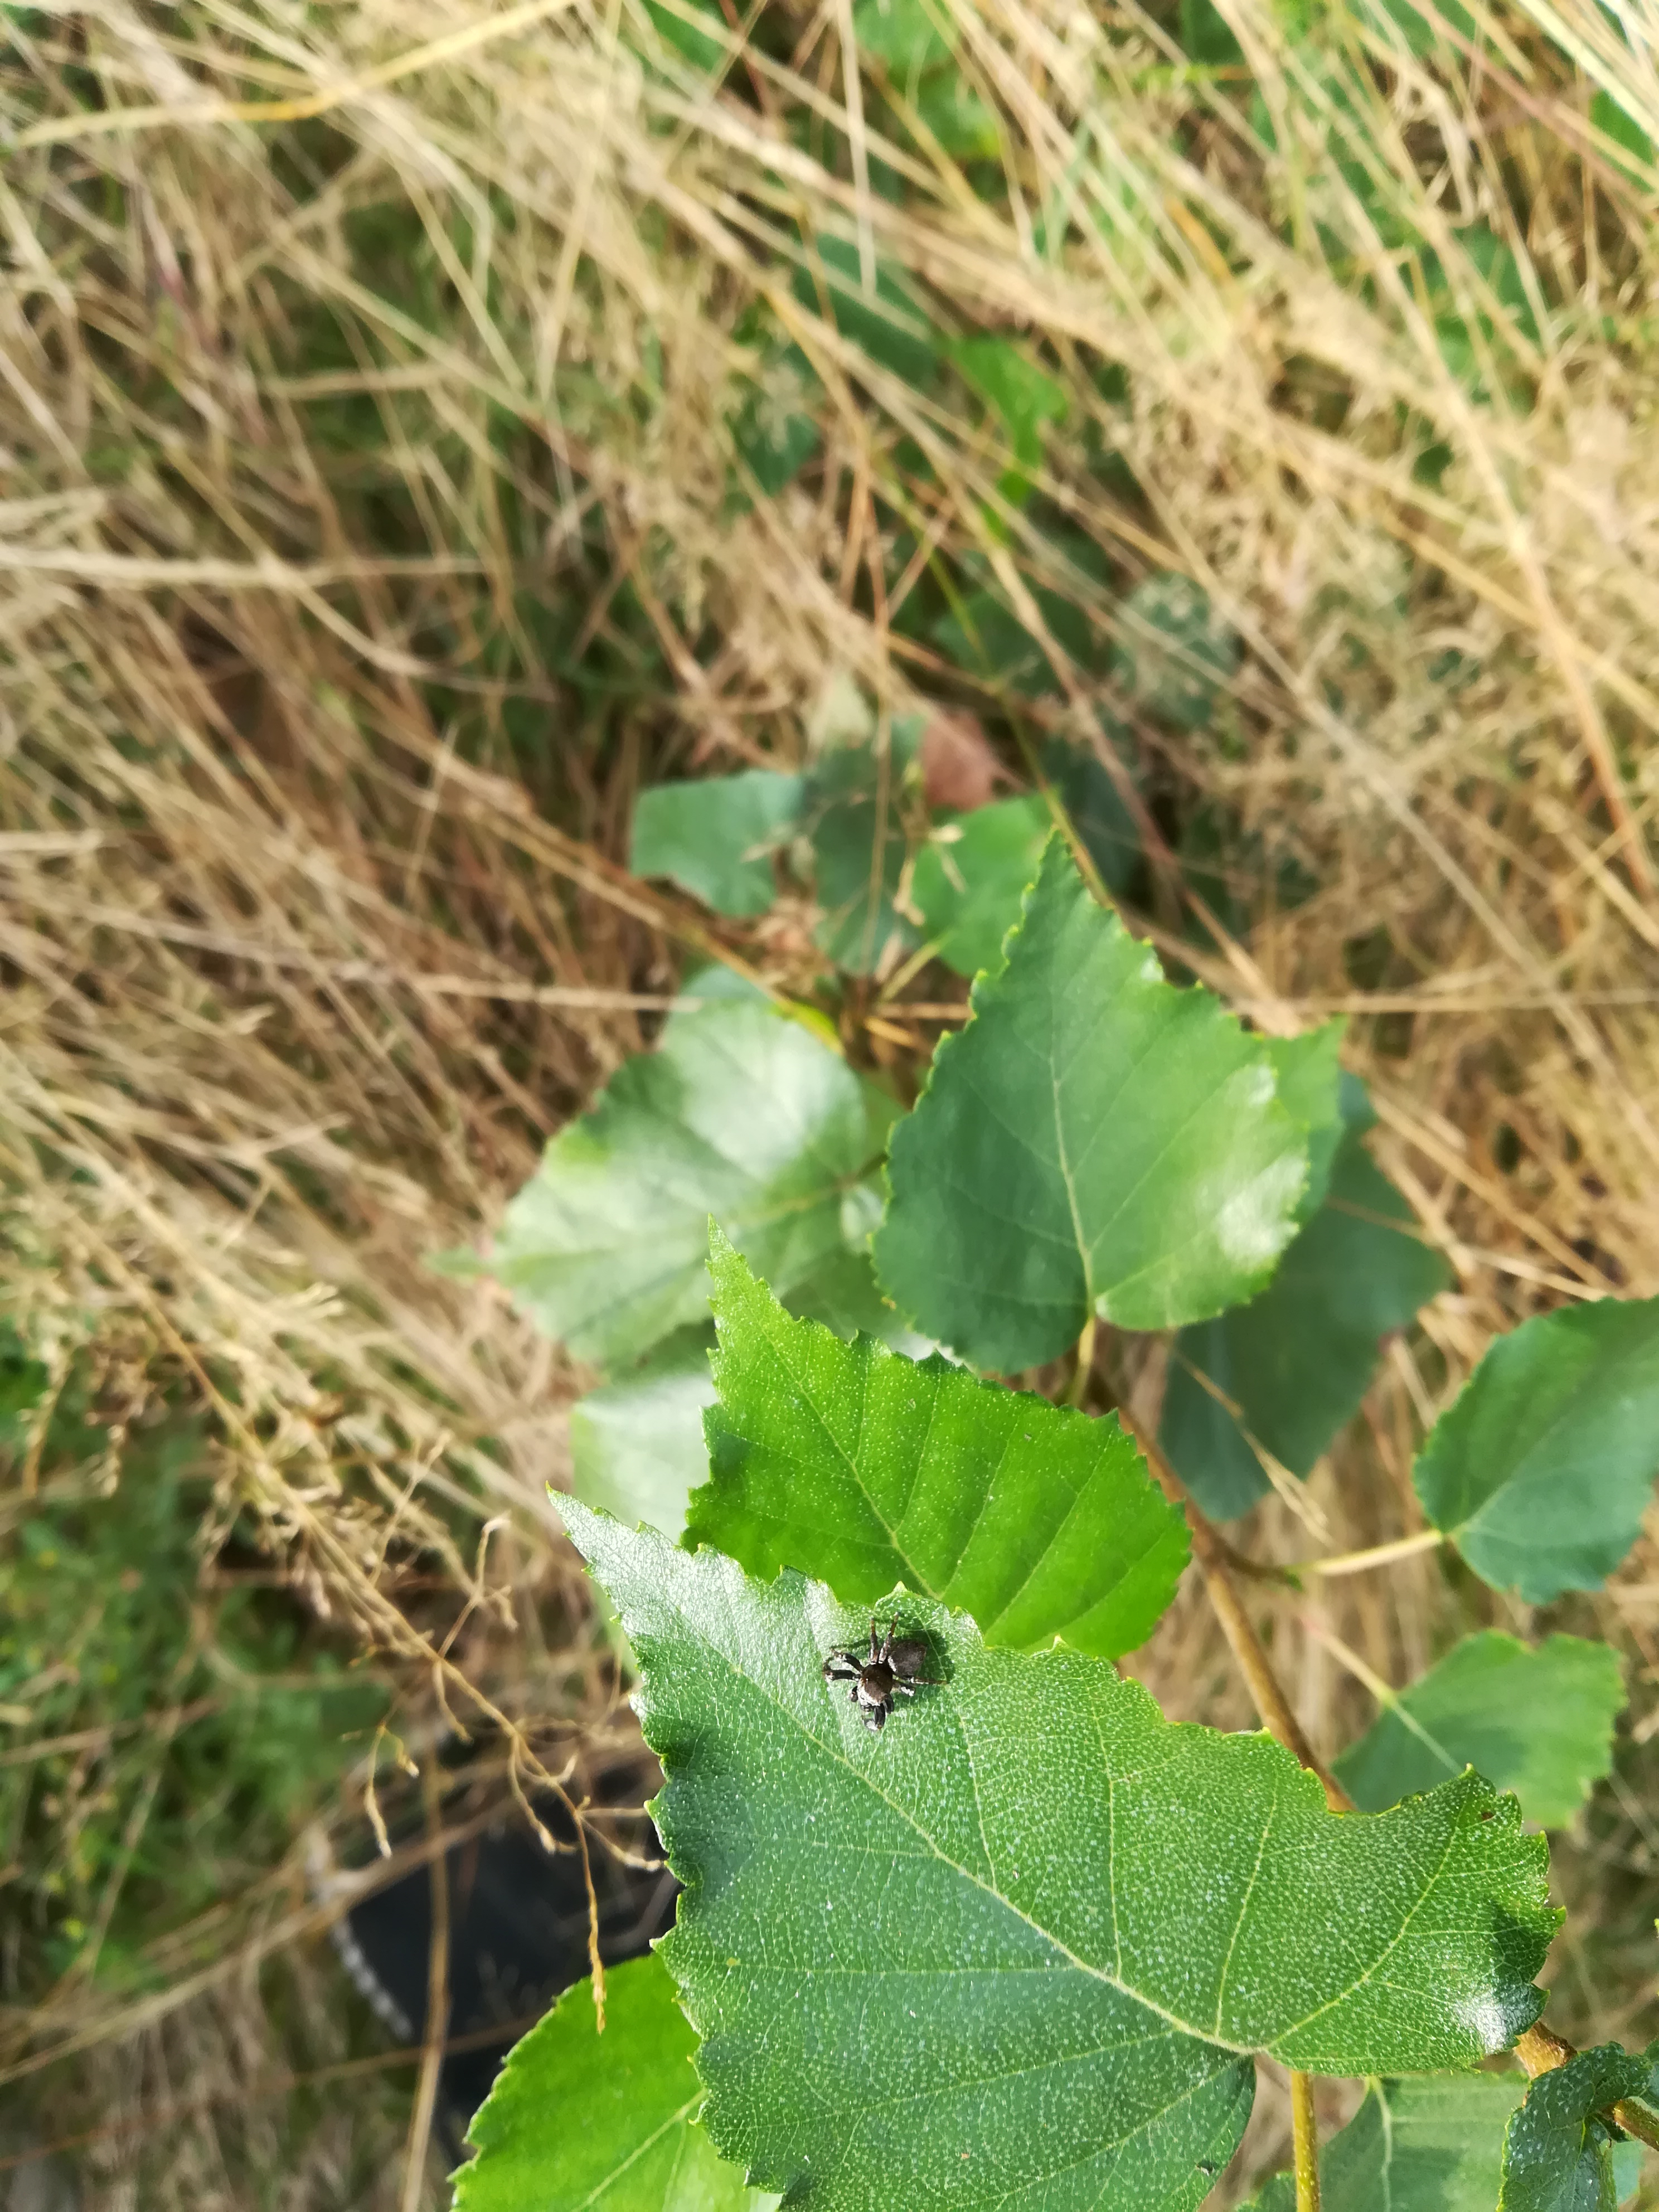spider: (779, 1597, 972, 1764)
